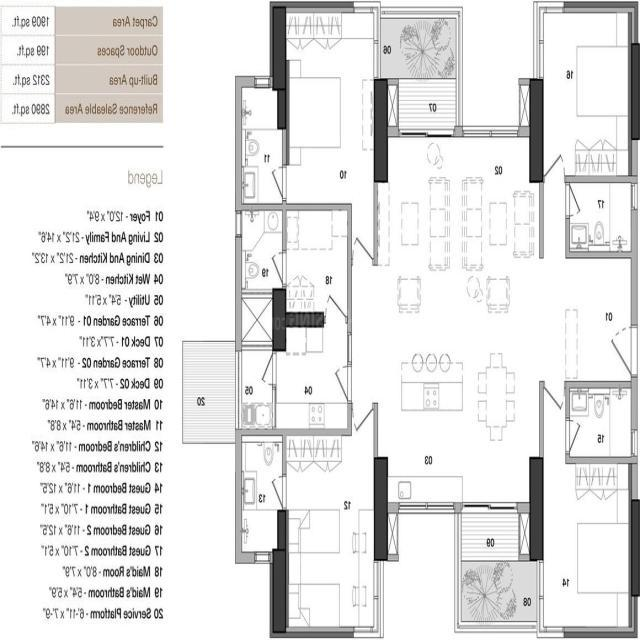Bedroom: (543, 464, 630, 624), (543, 15, 628, 178), (287, 209, 346, 317)
Bedroom with Toilet: (242, 13, 375, 266), (242, 399, 379, 630)
Dining: (475, 349, 519, 448)
Enterance-Foyer: (592, 315, 631, 382)
Kitchen: (277, 328, 346, 424)
Living: (379, 139, 537, 330)
Toilet: (242, 88, 286, 205), (242, 437, 282, 549), (570, 388, 631, 458), (570, 183, 632, 251), (242, 212, 280, 287)
Utility: (182, 340, 236, 442), (242, 350, 273, 430)
